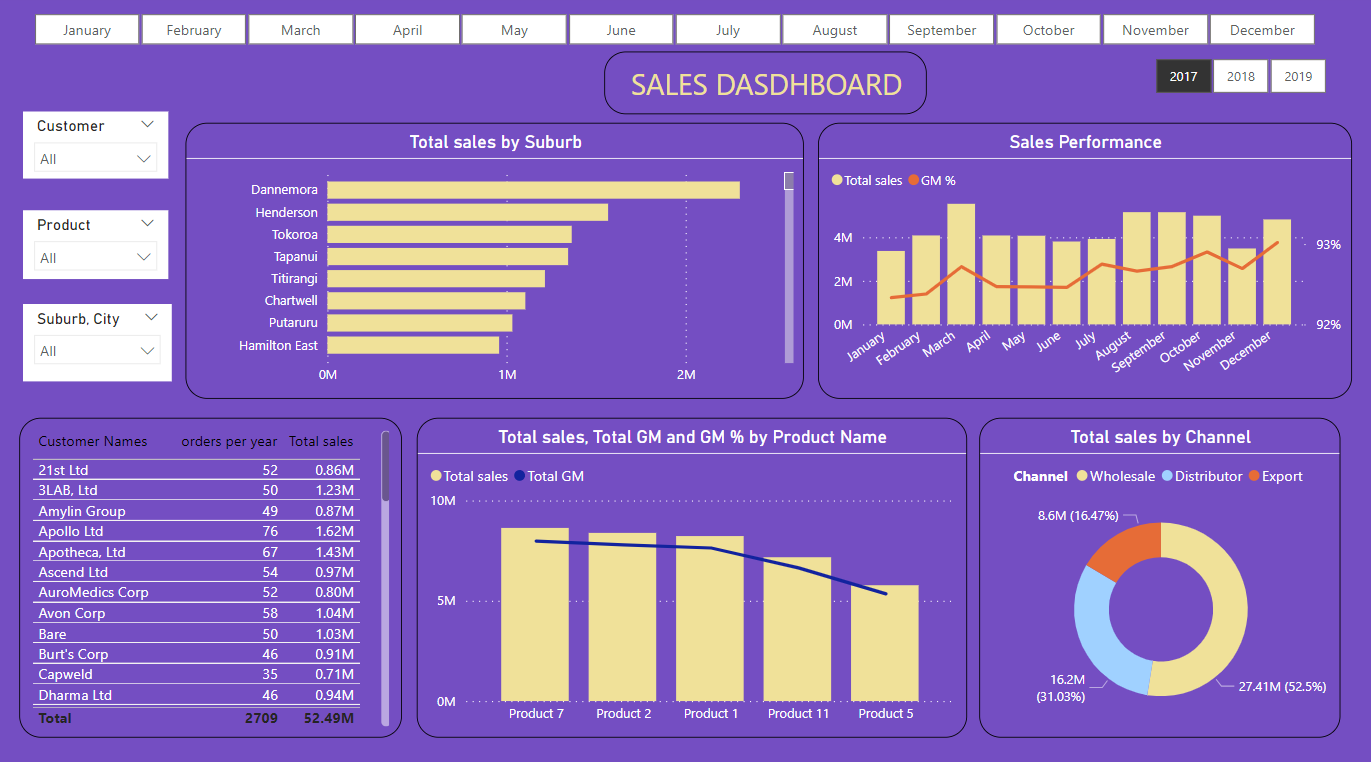

Layout of this report page (visuals, bound fields, positions):
{"tool":"powerbi","page":{"name":"Page 1","canvas":[1280,720],"ordinal":0},"visuals":[{"type":"lineStackedColumnComboChart","title":"Sales Performance","fields":{"Category":["Sales Orders.OrderDate.Variation.Date Hierarchy.Month"],"Y2":["Key Measures.GM %"],"Y":["Key Measures.Total sales"]},"box":[762.8,119.8,496.5,257],"z":0},{"type":"slicer","fields":{"Values":["Sales Orders.OrderDate.Variation.Date Hierarchy.Year"]},"box":[1051.2,53.5,208.1,45.3],"z":1000},{"type":"tableEx","fields":{"Values":["Customers.Customer Names","Key Measures.No of orders","Key Measures.Total sales"]},"box":[19.8,394.2,355.8,297.7],"z":2000},{"type":"slicer","fields":{"Values":["Customers.Customer Names"]},"box":[23.3,109.3,134.9,62.8],"z":3000},{"type":"donutChart","fields":{"Y":["Key Measures.Total sales"],"Category":["Sales Orders.Channel"]},"box":[912.8,394.2,336,297.7],"z":4000},{"type":"lineStackedColumnComboChart","fields":{"Category":["Products.Product Name"],"Y":["Key Measures.Total sales"],"Y2":["Key Measures.Total GM"]},"box":[389.5,394.2,511.6,297.7],"z":5000},{"type":"barChart","fields":{"Category":["Regions.Suburb","Regions.City"],"Y":["Key Measures.Total sales"]},"box":[174.4,119.8,575.6,257],"z":6000},{"type":"slicer","fields":{"Values":["Sales Orders.OrderDate.Variation.Date Hierarchy.Month"]},"box":[8.1,11.6,1240.7,41.9],"z":7000},{"type":"slicer","fields":{"Values":["Products.Product Name"]},"box":[23.3,201.2,134.9,64],"z":8000},{"type":"slicer","fields":{"Values":["Regions.Suburb","Regions.City"]},"box":[23.3,288.4,138.4,72.1],"z":9000},{"type":"textbox","box":[564,53.5,300,58.1],"z":10000}]}

Visuals, with their boxes in screenshot pixels (x1, y1, x2, y2), scaled from the page's 1280x720 canvas onto the 1371x762 screenshot:
"Sales Performance" lineStackedColumnComboChart: 817, 127, 1349, 399
slicer - Sales Orders.OrderDate.Variation.Date Hierarchy.Year: 1126, 57, 1349, 105
tableEx - Customers.Customer Names x Key Measures.No of orders: 21, 417, 402, 732
slicer - Customers.Customer Names: 25, 116, 169, 182
donutChart - Key Measures.Total sales x Sales Orders.Channel: 978, 417, 1338, 732
lineStackedColumnComboChart - Products.Product Name x Key Measures.Total sales: 417, 417, 965, 732
barChart - Regions.Suburb x Regions.City: 187, 127, 803, 399
slicer - Sales Orders.OrderDate.Variation.Date Hierarchy.Month: 9, 12, 1338, 57
slicer - Products.Product Name: 25, 213, 169, 281
slicer - Regions.Suburb x Regions.City: 25, 305, 173, 382
textbox: 604, 57, 925, 118
